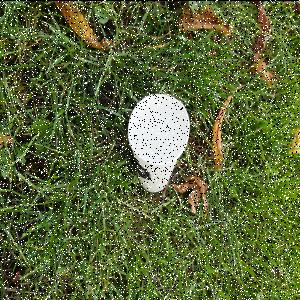Cup: (128, 91, 192, 195)
